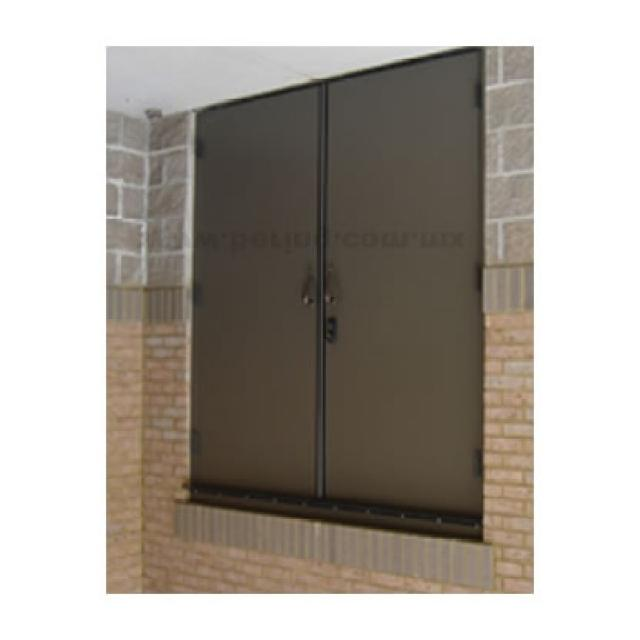door: (188, 49, 486, 528)
